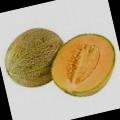Melon Ripe: (44, 27, 120, 102), (0, 22, 71, 92)
